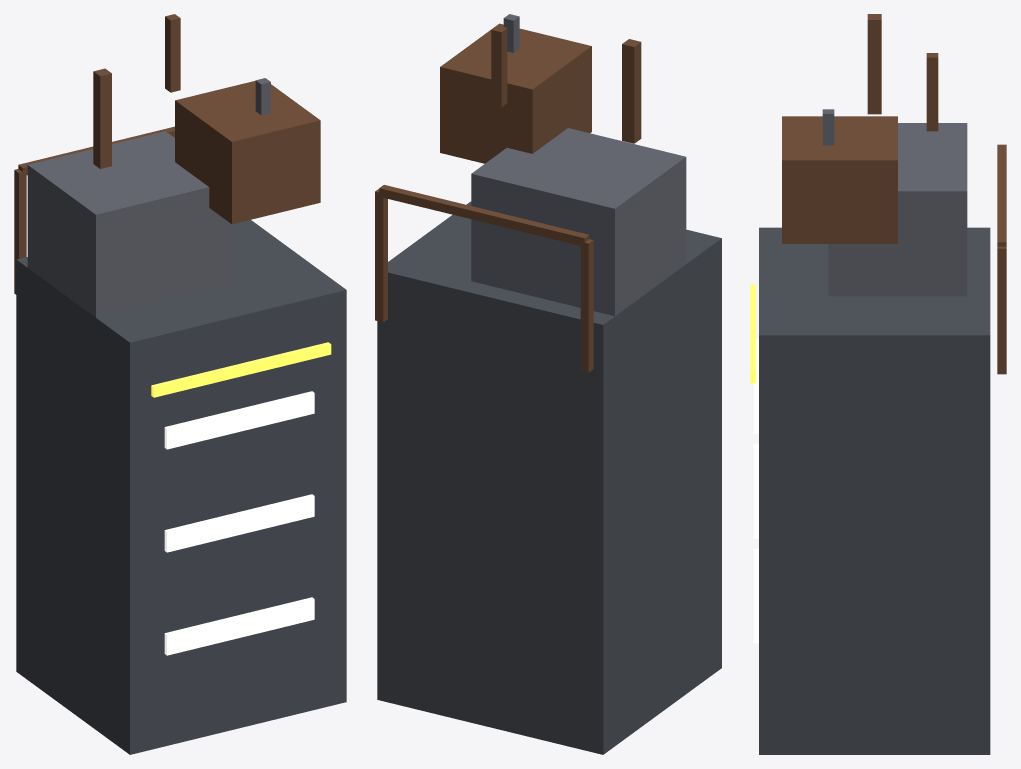
Rendered from broken_roof.glb.
3 renders of one model, left to right at view 1: azimuth 30°, elevation 25°; view 2: azimuth 150°, elevation 25°; view 3: azimuth 270°, elevation 25°, orthographic. The views are drawn at different scales.
Visible parts, largest first — view 1: broken_roof; view 2: broken_roof; view 3: broken_roof.
Part boxes in pixels (left/top/right/bottom): broken_roof: left=14, top=14, right=346, bottom=754; broken_roof: left=375, top=14, right=721, bottom=754; broken_roof: left=750, top=14, right=1006, bottom=754.
Bounding box in the file's own units: 2.2 × 6.25 × 2.21.
